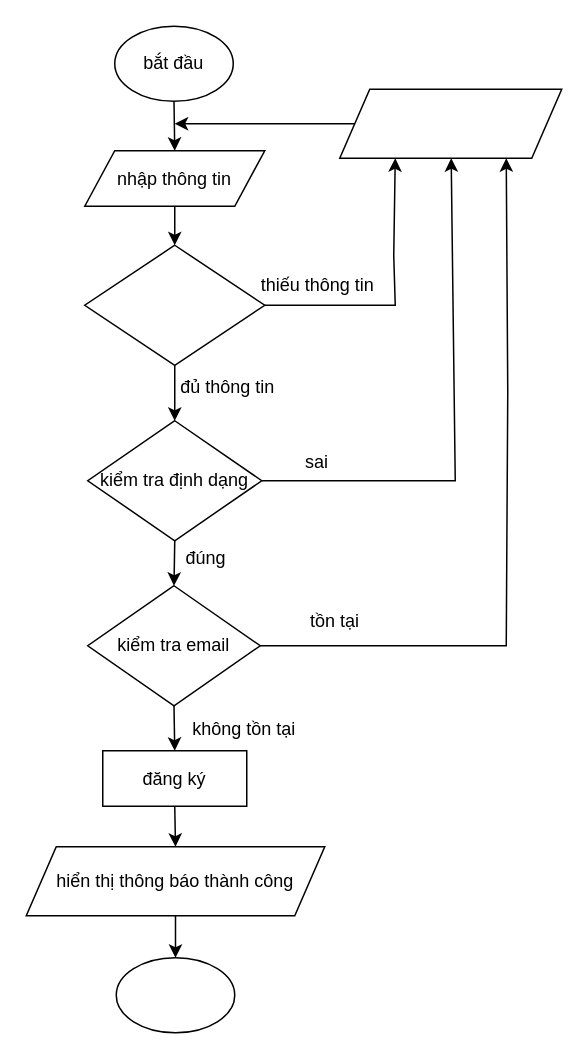
Some shapes in this 588 by 1059 pixel diagram are drawn without their labels. The centre of each missing label's shape, as x and y in pixels:
hiển thị thông báo lỗi: (450,123)
kiểm tra thông tin: (174,304)
kết thúc: (175,994)
